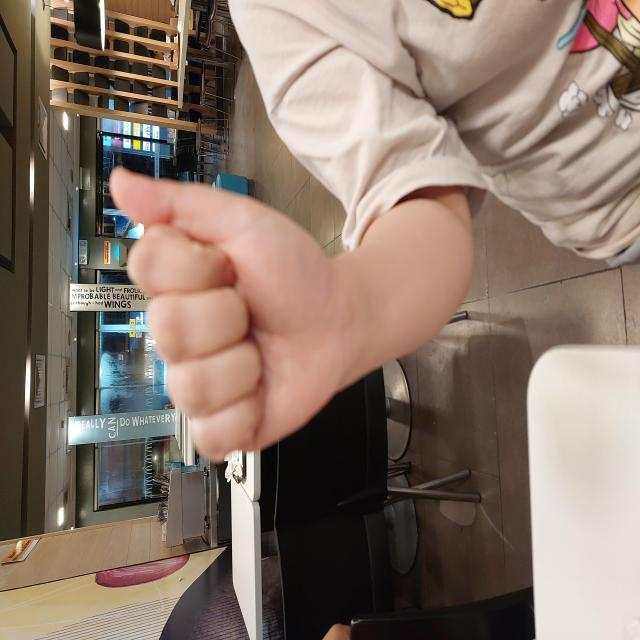A: (174, 108, 475, 340)
